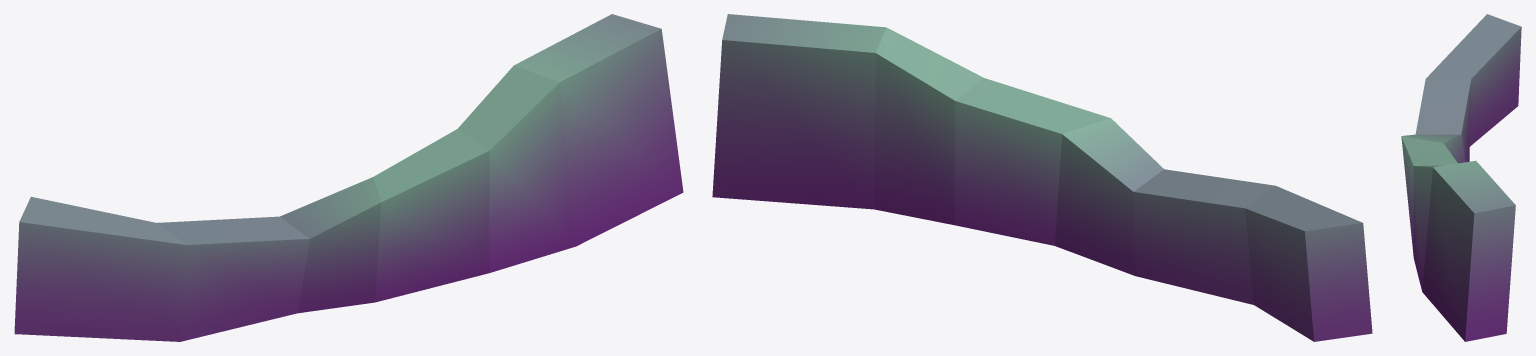
File: Wall02.fbx
3 views of the same model, side by side, from view 1: azimuth 30°, elevation 25°; view 2: azimuth 150°, elevation 25°; view 3: azimuth 270°, elevation 25° (orthographic). The views are drawn at different scales.
Visible parts, largest first — view 1: Short Wall 01; view 2: Short Wall 01; view 3: Short Wall 01.
Part boxes in pixels (box(x1,y1,x2,y2)): Short Wall 01: box(14, 14, 683, 341); Short Wall 01: box(712, 14, 1372, 341); Short Wall 01: box(1401, 14, 1521, 341).
Size of the model in its own units: 1122 by 266 by 236.
